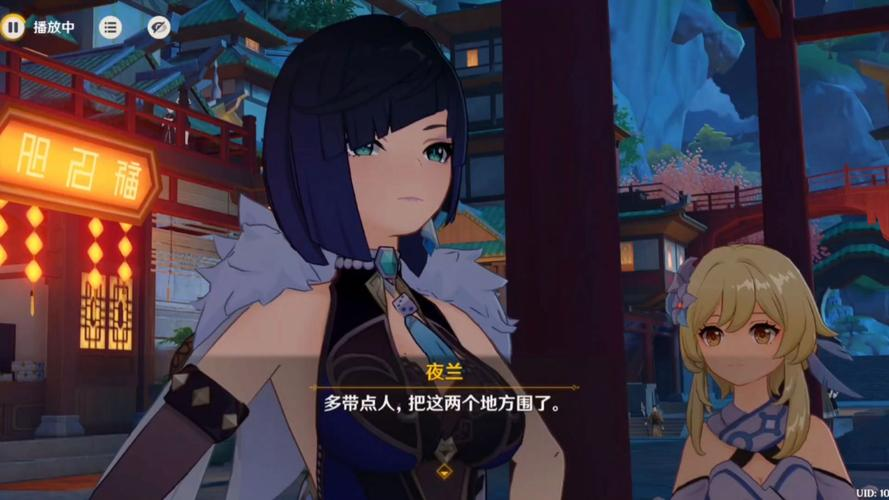夜兰: (83, 21, 568, 500)
